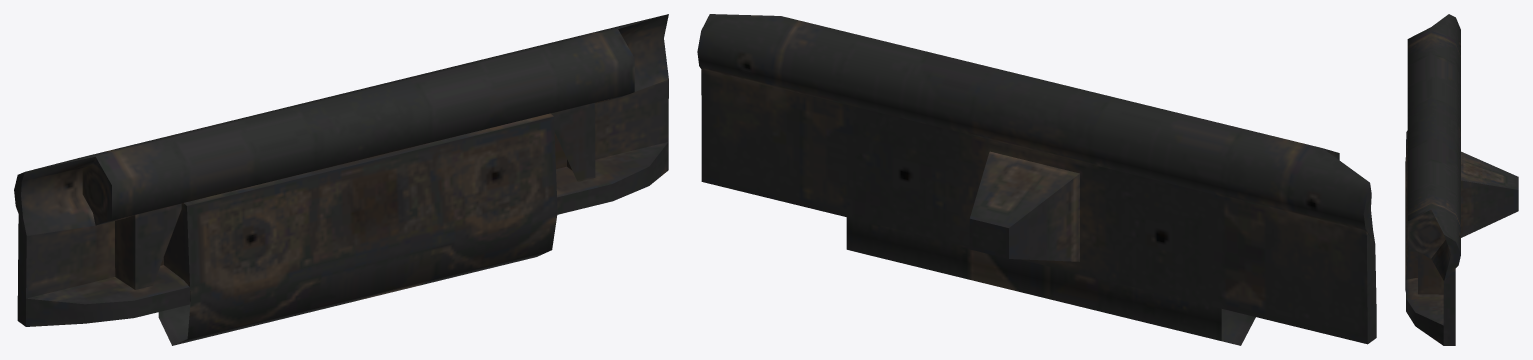
3 renders of one model, left to right at view 1: azimuth 30°, elevation 25°; view 2: azimuth 150°, elevation 25°; view 3: azimuth 270°, elevation 25°, orthographic. The views are drawn at different scales.
Visible parts, largest first — view 1: set_0_group_0; view 2: set_0_group_0; view 3: set_0_group_0.
Part boxes in pixels (x1=…): set_0_group_0: x1=14, y1=14, x2=668, y2=345; set_0_group_0: x1=697, y1=14, x2=1376, y2=345; set_0_group_0: x1=1405, y1=14, x2=1518, y2=345.
Size of the model in its own units: 0.6412 by 0.1992 by 0.1366.
1 material, 1 textured.
